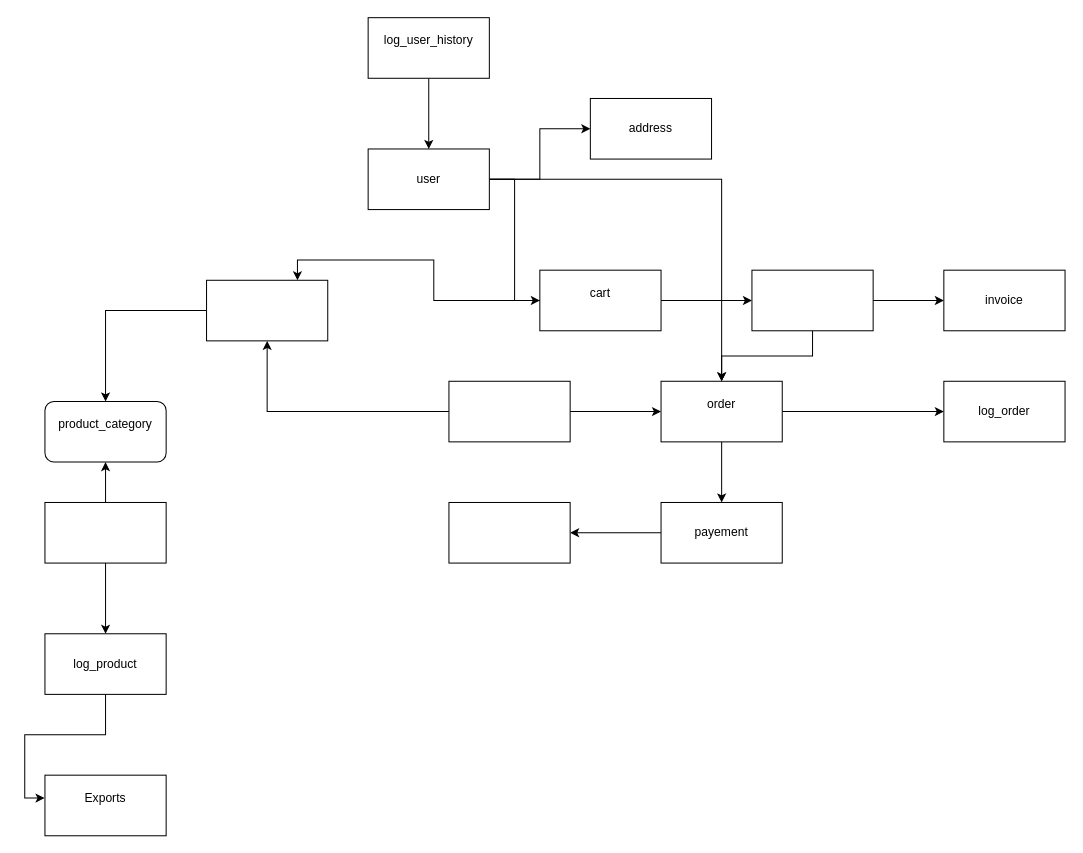
The diagram is 1083 pixels wide and 853 high, and some of its shapes have lost their labels. The shapes that lost their labels are listed below. From the top down, each one's centre as x and y in pixels, then its label:
point 267,310: product
point 812,300: order_status
point 509,411: product_availabilty
point 105,532: stock
point 509,532: log_payment
